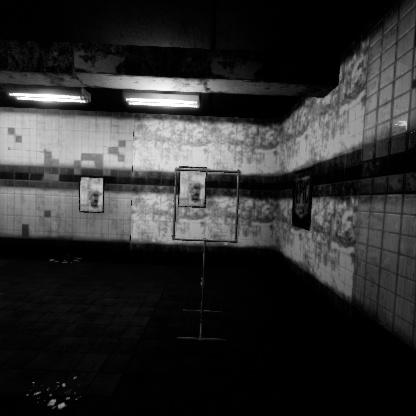gate: (172, 172, 246, 248)
